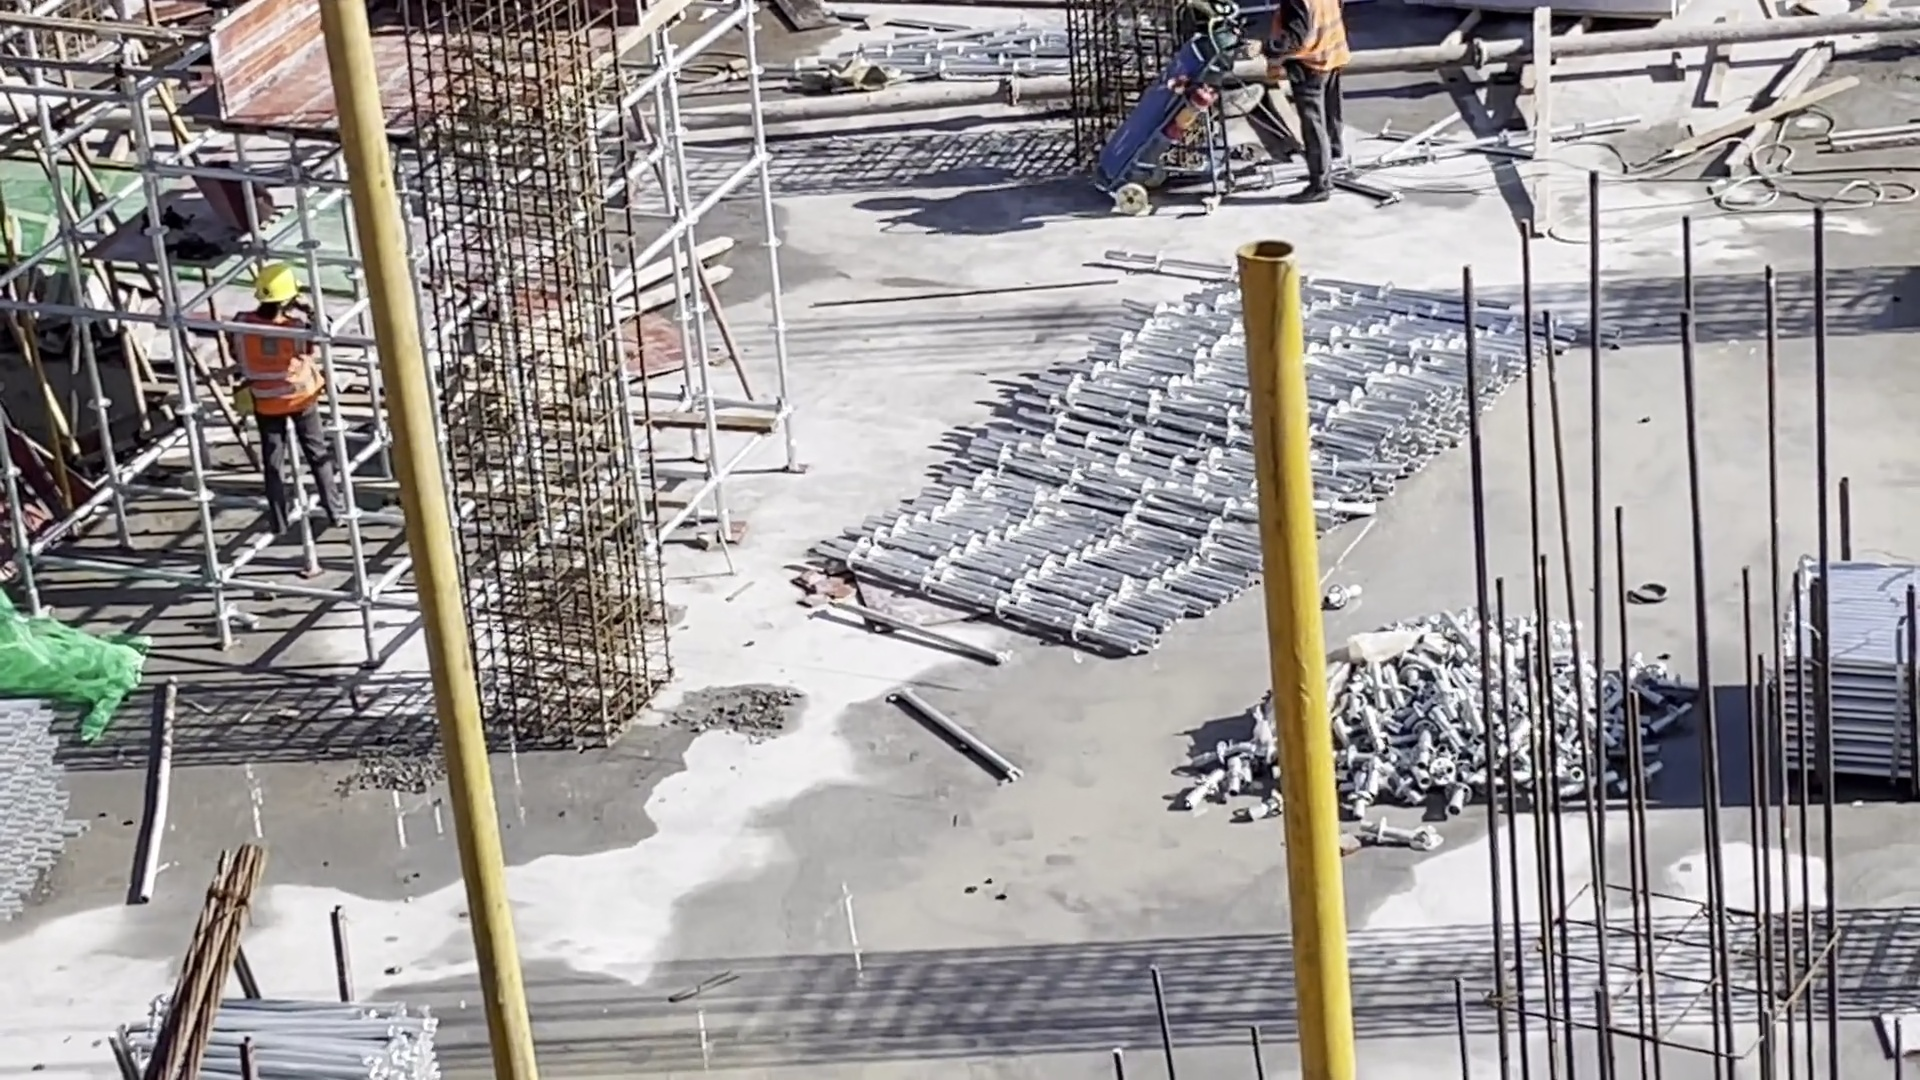helmet: (254, 264, 296, 309)
person: (230, 263, 351, 535), (1270, 2, 1358, 202)
scaffold: (809, 241, 1622, 668), (1780, 544, 1920, 795), (120, 996, 455, 1080)
vest: (237, 310, 321, 423), (1280, 2, 1348, 72)
